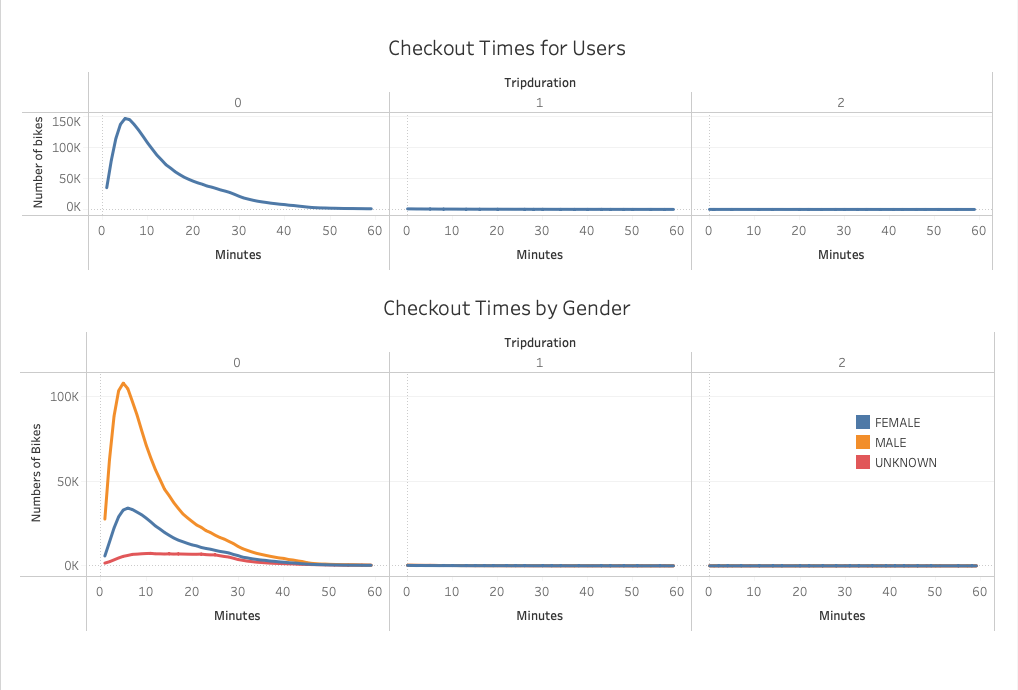

What the dashboard file says about the page in this screenshot:
{"tool":"tableau","page":{"name":"D2-Checkout time","canvas":[1000,800],"ordinal":1},"visuals":[{"type":"text","box":[6,5,984,73]},{"type":"worksheet","title":"Checkout Times for Users","mark":"Automatic","rows":["citibike_201908_update.csv_BCEE94EDC6294E779FA0D7EC6074AA64"],"cols":["tripduration","tripduration"],"box":[13,71,971,242]},{"type":"worksheet","title":"Checkout Times by Gender","mark":"Automatic","rows":["citibike_201908_update.csv_BCEE94EDC6294E779FA0D7EC6074AA64"],"cols":["tripduration","tripduration"],"box":[11,331,975,343]},{"type":"legend","title":"Checkout Times by Gender","param":"[federated.1bkvqci0archc3146wl8i0jmyrb0].[none:Calculation_3634123456702881793:n","box":[844,436,140,78]}]}

Visuals, with their boxes on the page's 1000x800 design canvas (x1, y1, x2, y2). These are canvas units, not pixel positions in the 1018x690 screenshot, which may show the page scaled, cropped or inside an application window:
text: x1=6 y1=5 x2=990 y2=78
"Checkout Times for Users" worksheet: x1=13 y1=71 x2=984 y2=313
"Checkout Times by Gender" worksheet: x1=11 y1=331 x2=986 y2=674
"Checkout Times by Gender" legend: x1=844 y1=436 x2=984 y2=514
